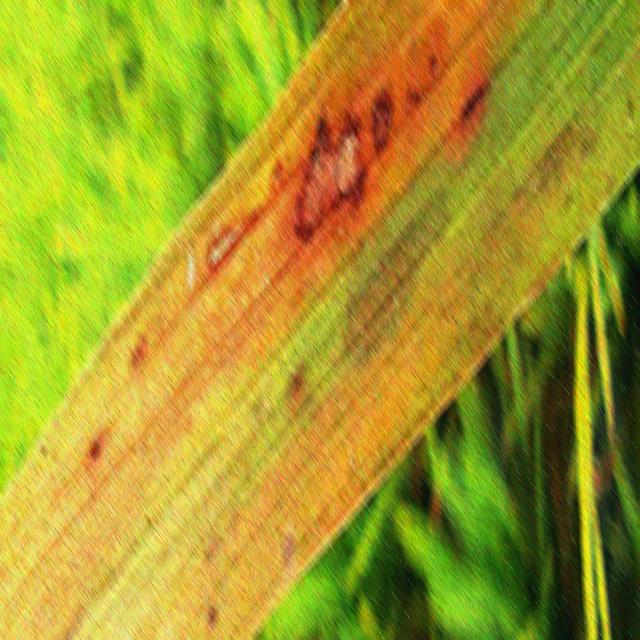LEAF BLAST: (293, 108, 367, 247), (205, 203, 263, 278), (370, 85, 393, 154)
